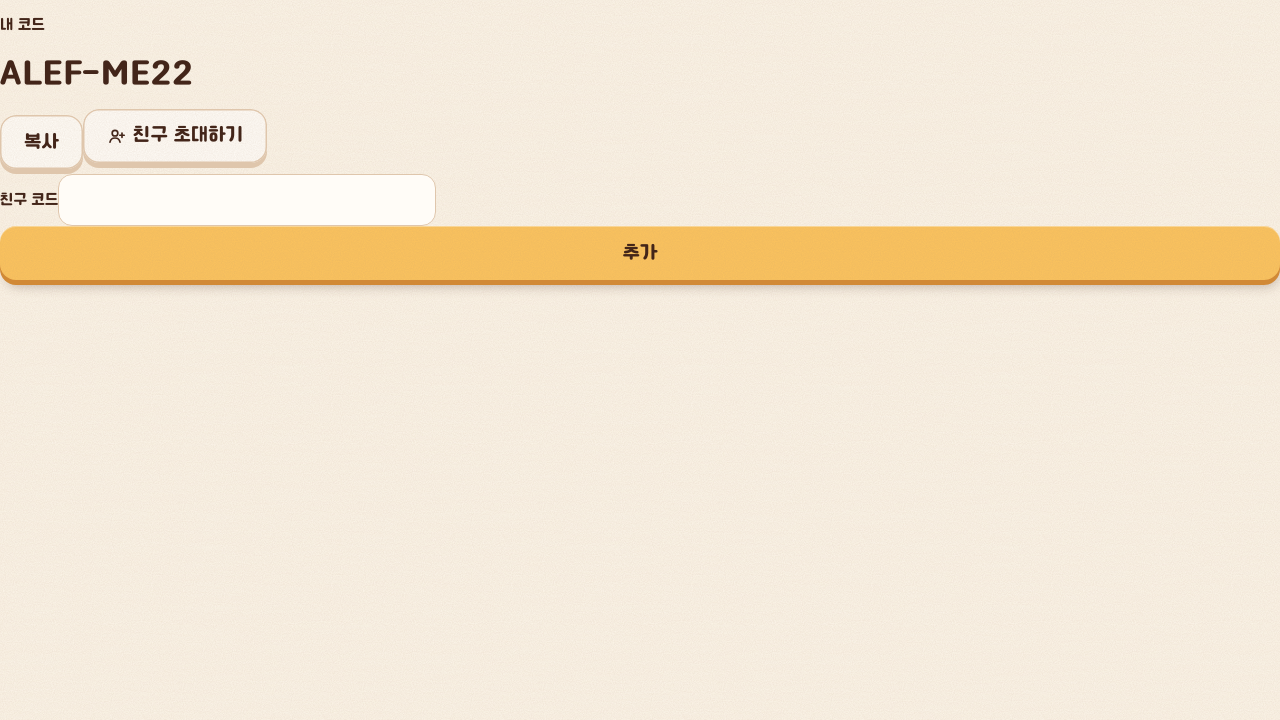
Scenario: FriendsManager › rate limited: asks to try again later
Expected: the text "ALEF-ME22" is shown, [0,56,193,94]
Type "AB23" into the field labelled "친구 코드" at (247, 200), box [58,174,436,226]
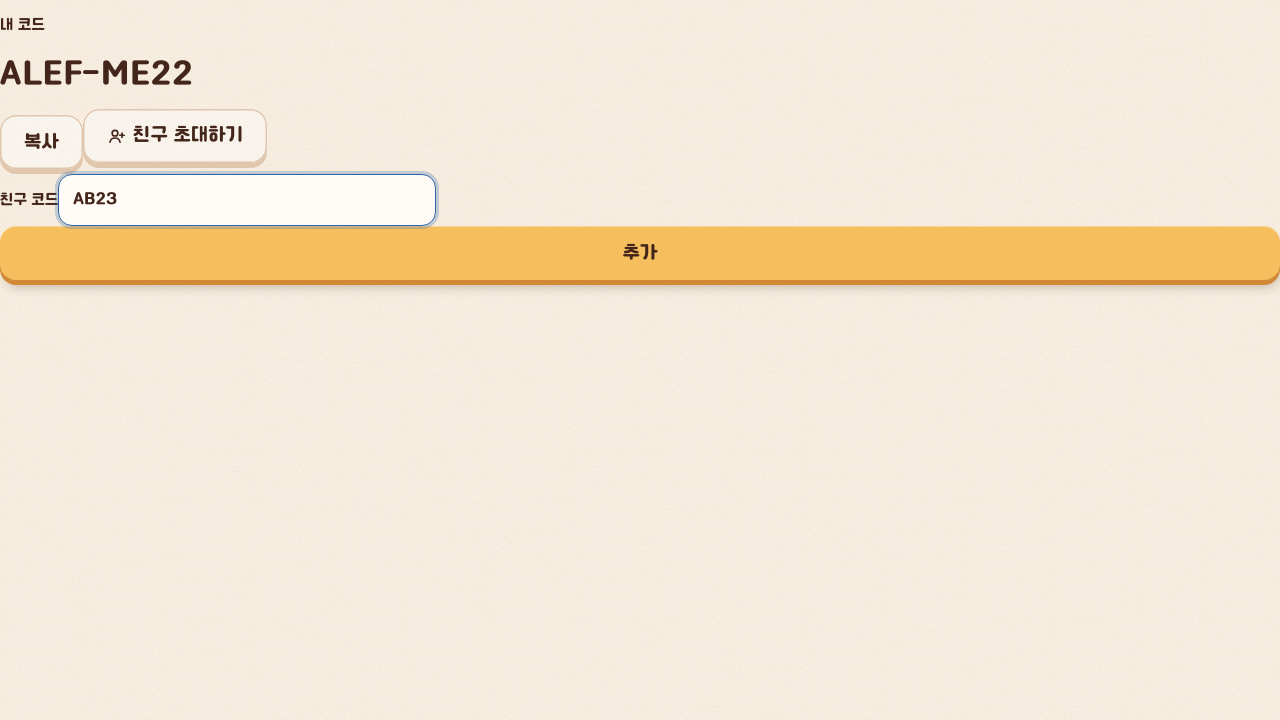
Click the button "추가" at (640, 253), box [0,226,1279,280]
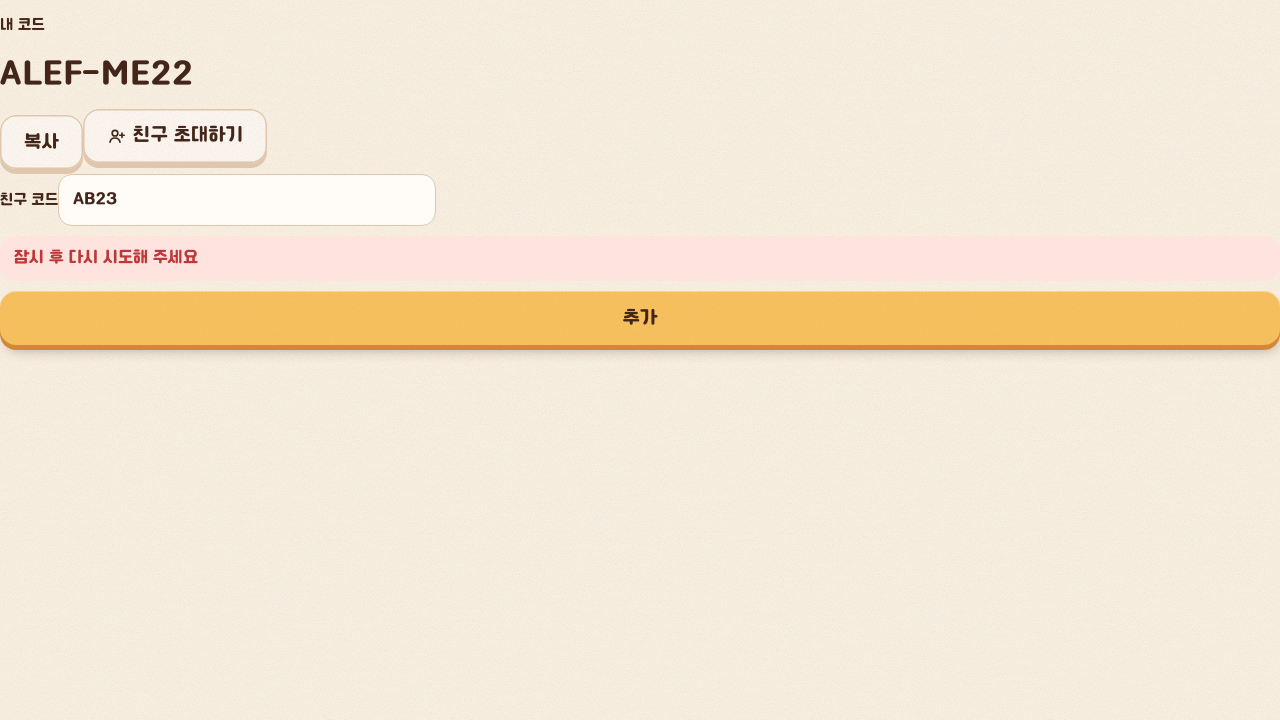
Expected: the message reads "잠시 후 다시 시도해 주세요", [14,248,198,267]
